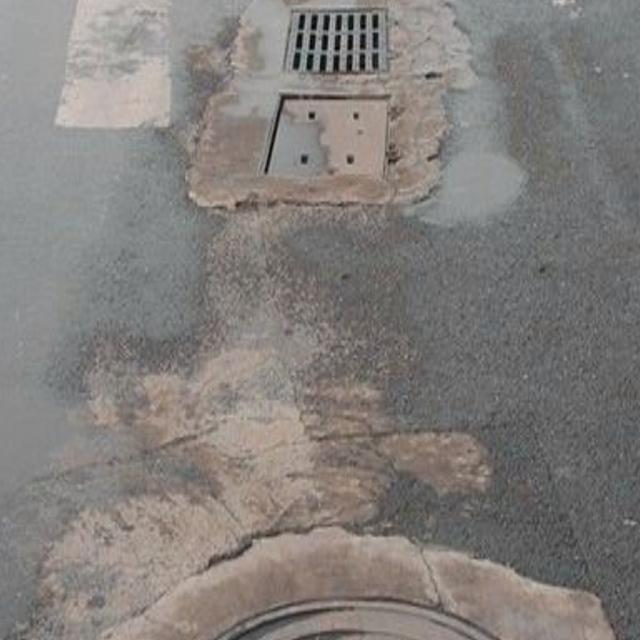broke: (63, 464, 640, 640)
